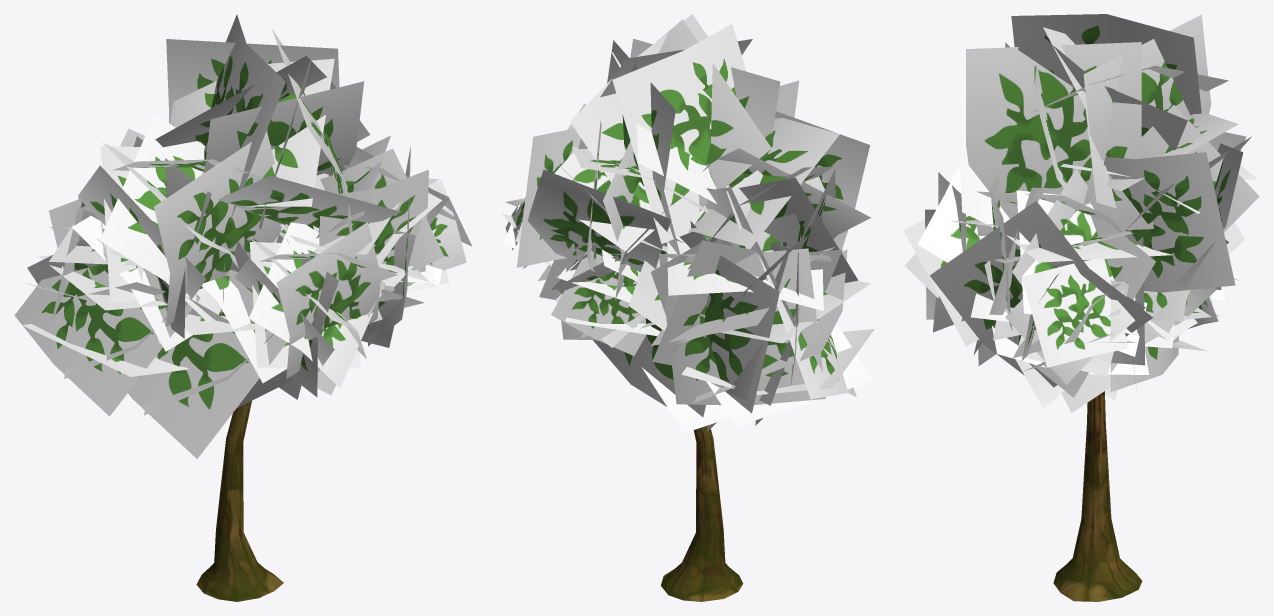
File: Tree 1.fbx
3 views of the same model, side by side, from view 1: azimuth 30°, elevation 25°; view 2: azimuth 150°, elevation 25°; view 3: azimuth 270°, elevation 25° (orthographic). The views are drawn at different scales.
Visible parts, largest first — view 1: Tree 1; view 2: Tree 1; view 3: Tree 1.
Part boxes in pixels (bbox=[...]): Tree 1: bbox=[14, 14, 472, 601]; Tree 1: bbox=[502, 14, 874, 601]; Tree 1: bbox=[903, 14, 1259, 601].
Size of the model in its own units: 1925 by 2564 by 1429.
